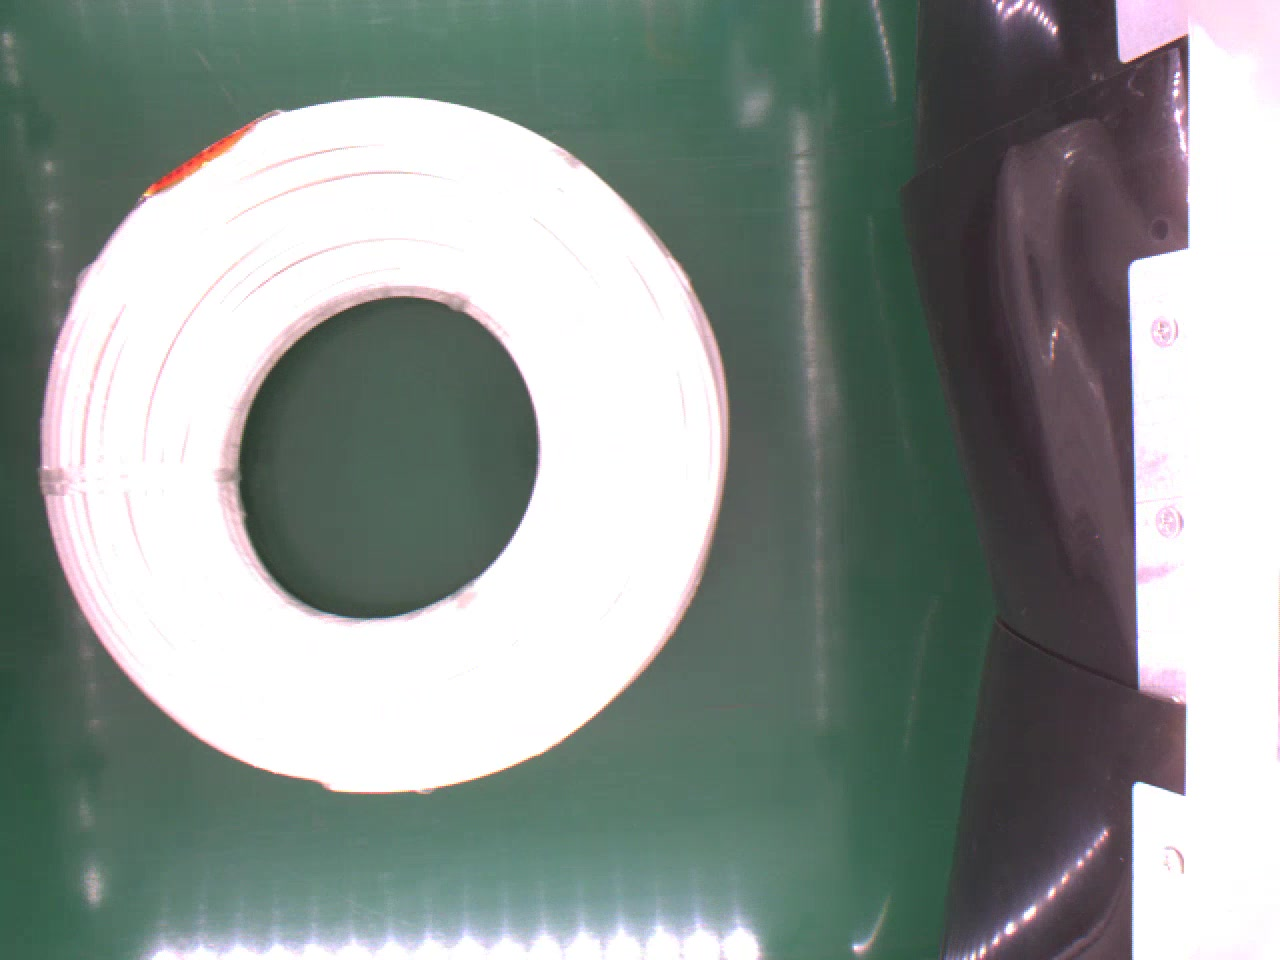white: (39, 93, 731, 802)
